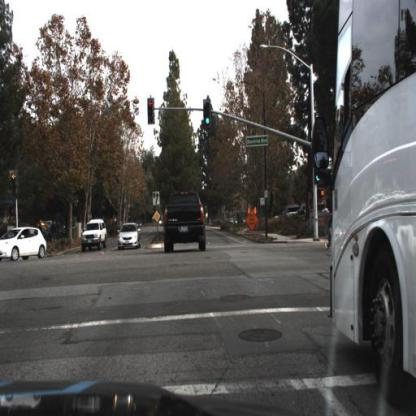biker: (323, 195, 335, 254), (326, 178, 333, 253)
car: (163, 186, 208, 256), (1, 226, 48, 261), (80, 216, 109, 255), (117, 222, 143, 253)
pedestrian: (57, 222, 62, 242), (47, 223, 52, 241), (53, 222, 57, 241)
trafficLight: (147, 97, 156, 126)
trafficLight-Green: (204, 99, 212, 128), (315, 170, 323, 187)
